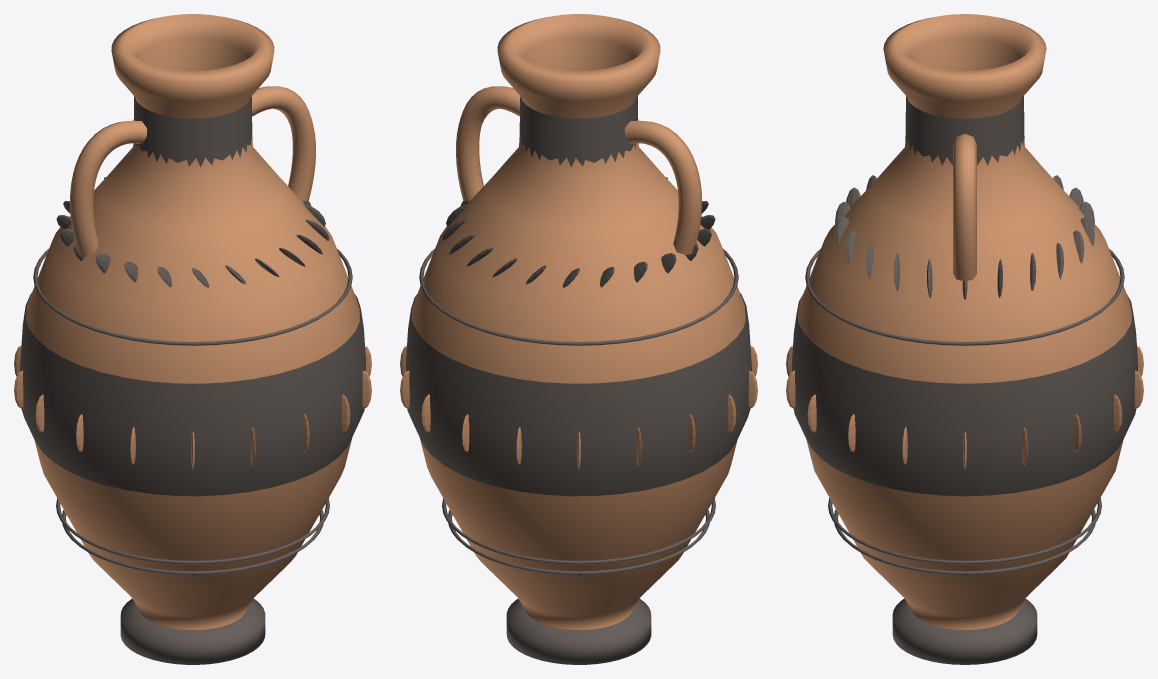
The model's file is obj_kit_amphora.glb.
The picture shows the model from 3 angles, left to right: view 1: azimuth 30°, elevation 25°; view 2: azimuth 150°, elevation 25°; view 3: azimuth 270°, elevation 25°; orthographic projection.
Parts seen in each view (by area): view 1: amph, band, foot, neckband, handle.001, handle, Torus.001, Torus, Torus.002; view 2: amph, band, foot, neckband, handle.001, handle, Torus.001, Torus, Torus.002; view 3: amph, band, foot, neckband, handle, Torus.001, Torus, Torus.002.
Part boxes in pixels (x1,y1,x2,y2): amph: [26, 14, 359, 630]; band: [20, 293, 365, 496]; foot: [120, 598, 265, 664]; neckband: [133, 96, 252, 167]; handle.001: [70, 120, 147, 254]; handle: [251, 86, 315, 201]; Torus.001: [33, 249, 352, 345]; Torus: [56, 498, 329, 564]; Torus.002: [62, 510, 323, 574]; amph: [412, 14, 745, 630]; band: [406, 293, 751, 496]; foot: [506, 598, 651, 664]; neckband: [519, 96, 638, 167]; handle.001: [624, 120, 701, 254]; handle: [456, 86, 520, 201]; Torus.001: [419, 249, 738, 345]; Torus: [442, 498, 715, 564]; Torus.002: [448, 510, 709, 574]; amph: [798, 14, 1131, 629]; band: [791, 295, 1138, 496]; foot: [892, 598, 1037, 664]; neckband: [905, 96, 1024, 165]; handle: [953, 134, 976, 281]; Torus.001: [805, 249, 1124, 345]; Torus: [828, 498, 1101, 564]; Torus.002: [834, 509, 1095, 574].
Size of the model in its own units: 0.512 by 0.92 by 0.5042.
